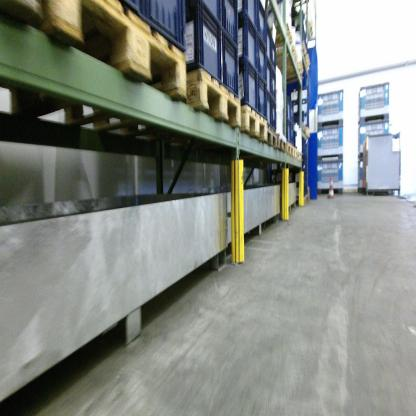pallet: (43, 2, 193, 100), (182, 63, 242, 131), (235, 98, 267, 143), (273, 55, 303, 85), (3, 4, 42, 25), (268, 20, 294, 49), (268, 42, 297, 66), (259, 119, 278, 147), (303, 16, 314, 42), (291, 120, 307, 133), (276, 131, 285, 154), (291, 1, 311, 10), (298, 34, 306, 56), (285, 141, 294, 157), (306, 56, 312, 74), (295, 150, 304, 161), (293, 146, 298, 158), (306, 123, 310, 137)
small_load_carrier: (185, 2, 224, 86), (153, 0, 192, 54), (222, 28, 244, 99), (236, 11, 259, 72), (236, 56, 258, 116), (221, 2, 240, 48), (193, 0, 223, 28), (121, 1, 153, 25), (236, 1, 258, 30), (255, 34, 267, 86), (257, 72, 267, 125), (269, 58, 279, 108), (257, 1, 268, 46), (263, 84, 273, 127), (263, 49, 271, 101), (269, 88, 278, 133), (271, 33, 279, 79), (264, 18, 271, 67), (289, 97, 299, 125), (285, 120, 292, 144), (286, 96, 290, 123)
